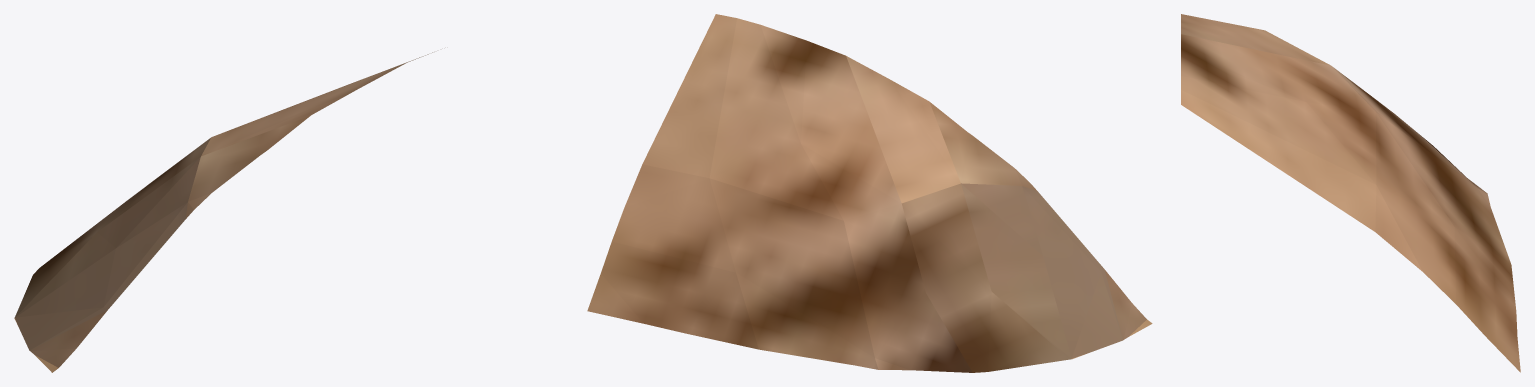
The picture shows the model from 3 angles, left to right: view 1: azimuth 30°, elevation 25°; view 2: azimuth 150°, elevation 25°; view 3: azimuth 270°, elevation 25°; orthographic projection. The views are drawn at different scales.
Bounding box in the file's own units: 0.1115 × 0.0498 × 0.0569.
Materials: 1 (1 with a texture image).
